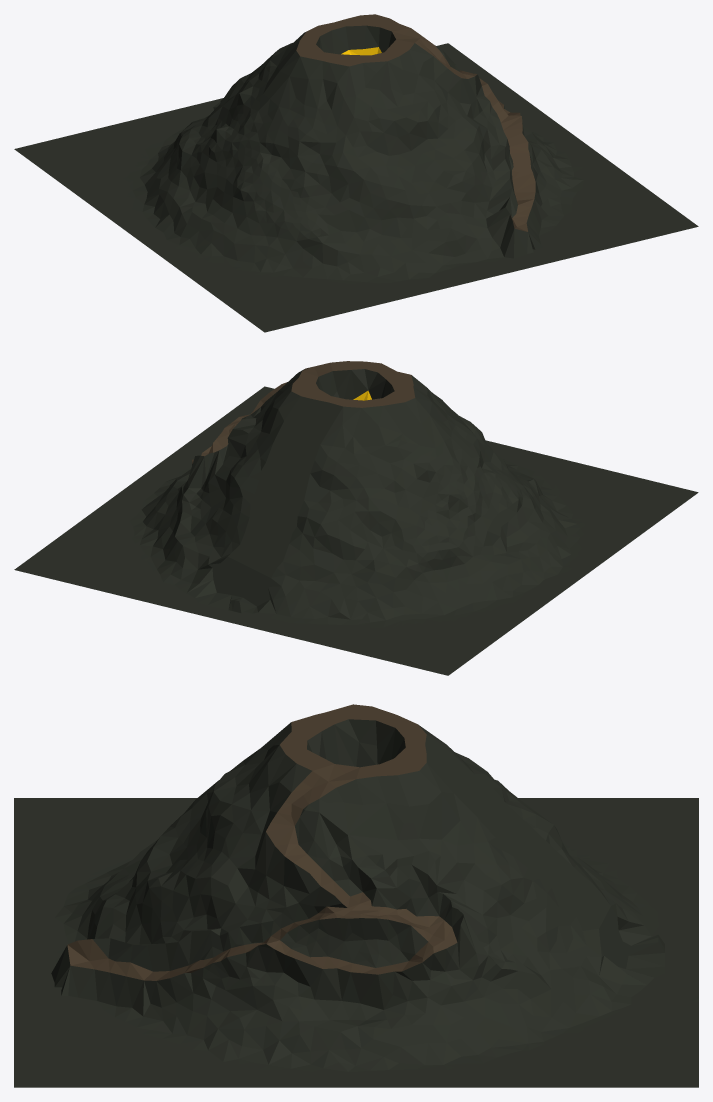
File: VulcanBien.fbx
3 renders of one model, top to bottom at view 1: azimuth 30°, elevation 25°; view 2: azimuth 150°, elevation 25°; view 3: azimuth 270°, elevation 25°, orthographic. The views are drawn at different scales.
Visible parts, largest first — view 1: Plane; view 2: Plane; view 3: Plane.
Boxes of the visible parts, <box> form: Plane: <box>14,14,698,332</box>; Plane: <box>14,361,698,675</box>; Plane: <box>14,704,698,1087</box>.
Bounding box in the file's own units: 1605 × 530 × 1605.
